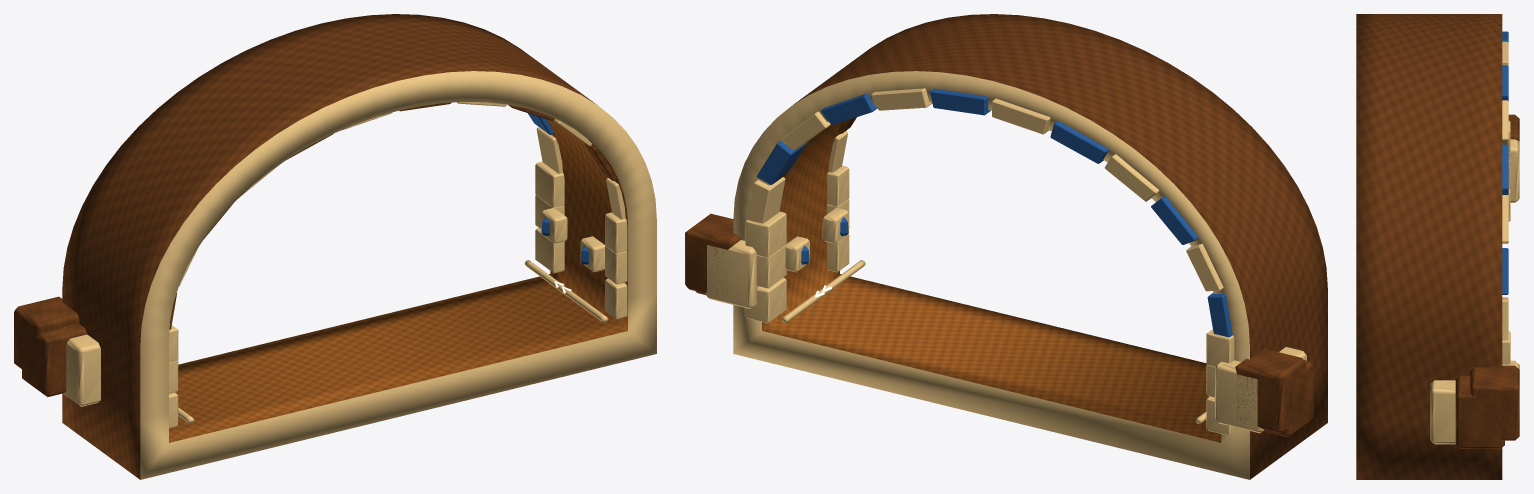
The model's file is portal_exit_lod1.glb.
3 renders of one model, left to right at view 1: azimuth 30°, elevation 25°; view 2: azimuth 150°, elevation 25°; view 3: azimuth 270°, elevation 25°, orthographic. The views are drawn at different scales.
Visible parts, largest first — view 1: TunnelGeometry.001; view 2: TunnelGeometry.001; view 3: TunnelGeometry.001.
Part boxes in pixels (<box>): TunnelGeometry.001: <box>14,14,656,479</box>; TunnelGeometry.001: <box>685,14,1327,479</box>; TunnelGeometry.001: <box>1356,14,1519,479</box>.
Size of the model in its own units: 17.75 by 9.52 by 4.48.
Materials: 5 (2 with a texture image).
